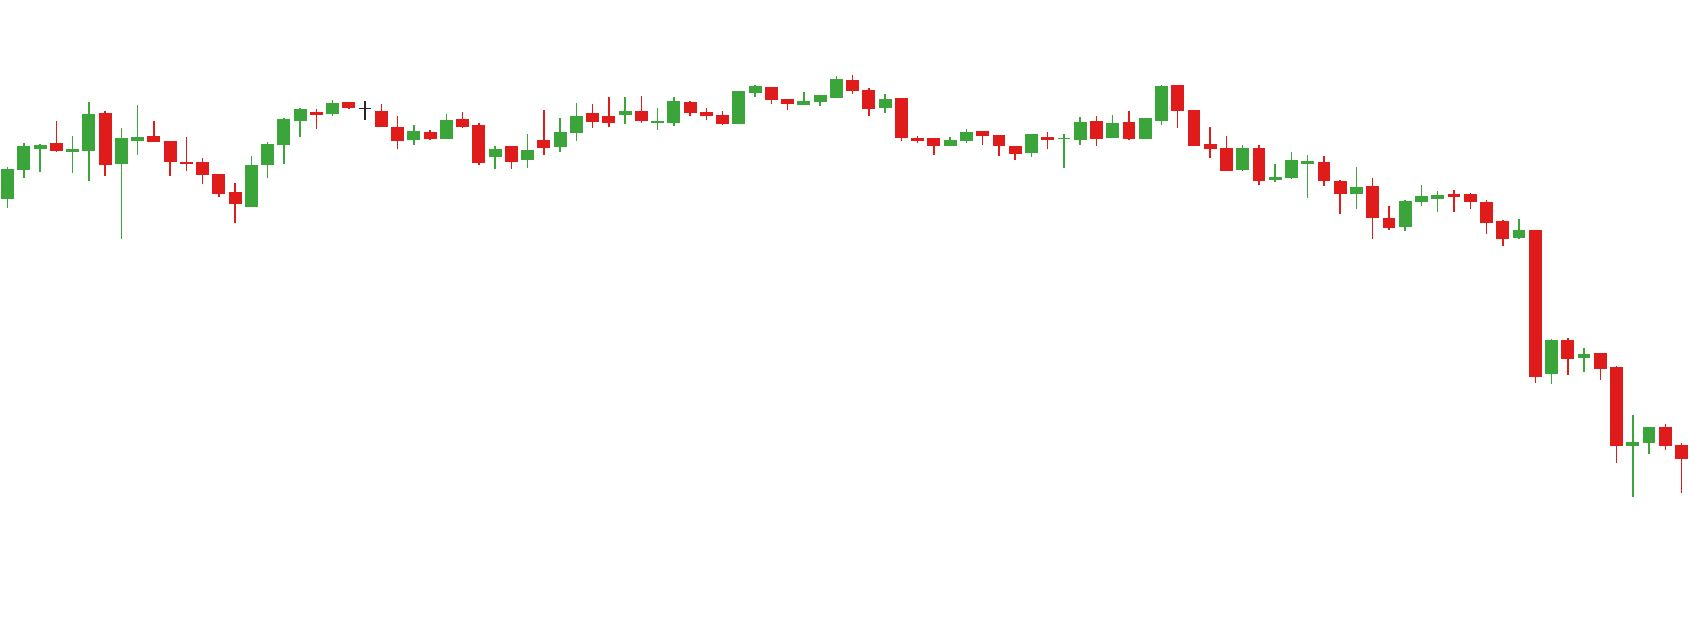sell: (1073, 83, 1203, 133)
